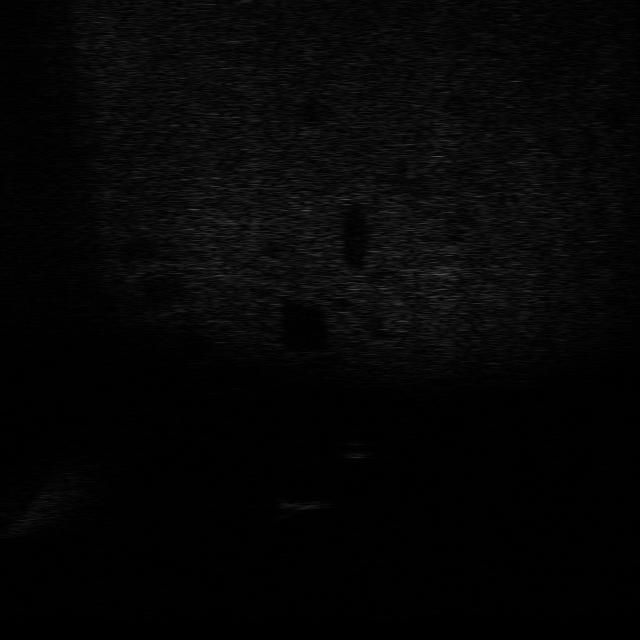ball: (330, 433, 379, 464)
square cage: (266, 490, 338, 524)
